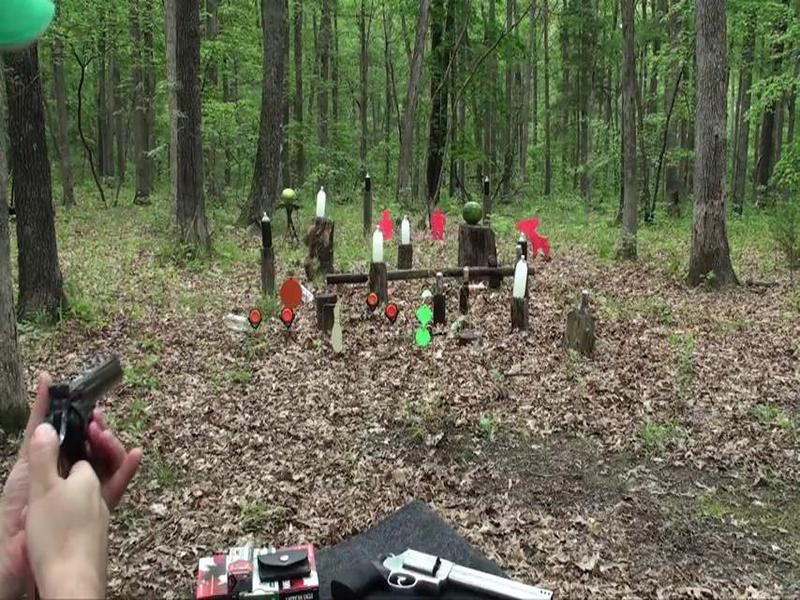Revolver: (38, 346, 131, 494)
